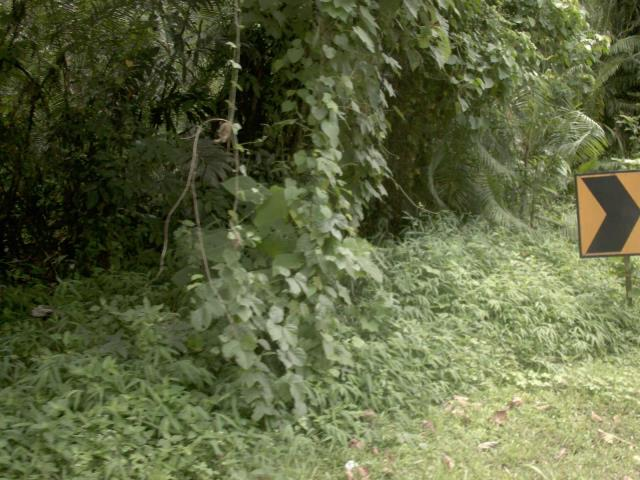traffic_sign: (566, 157, 640, 274)
